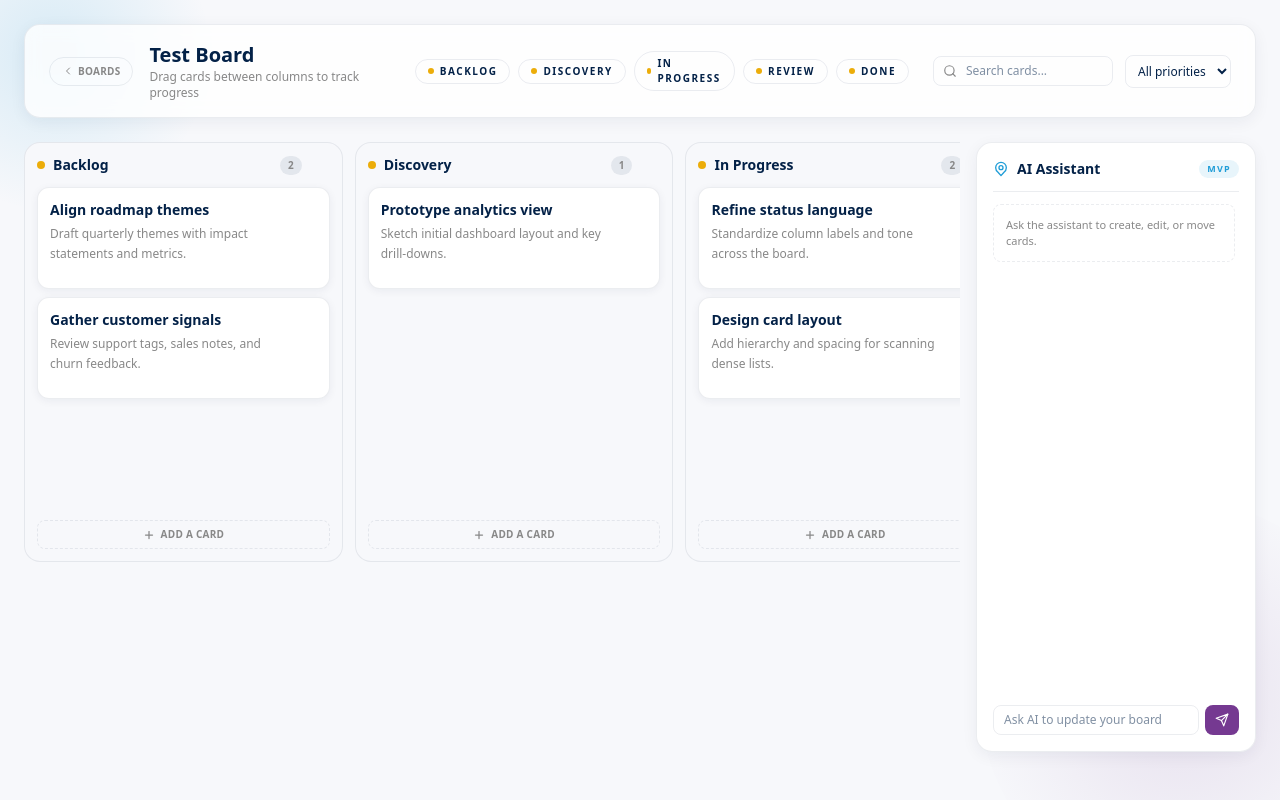
Test: KanbanBoard › filters cards by search query
Expected: the element with test id "column-col-backlog" is shown, top-left (24, 142), bottom-right (343, 562)
Expected: the heading "Align roadmap themes" is shown, top-left (50, 200), bottom-right (209, 219)
Note: Search for a specific card
Type "roadmap" into the field labelled "Search cards...". click: (1023, 71)
box: top-left (933, 56), bottom-right (1113, 86)
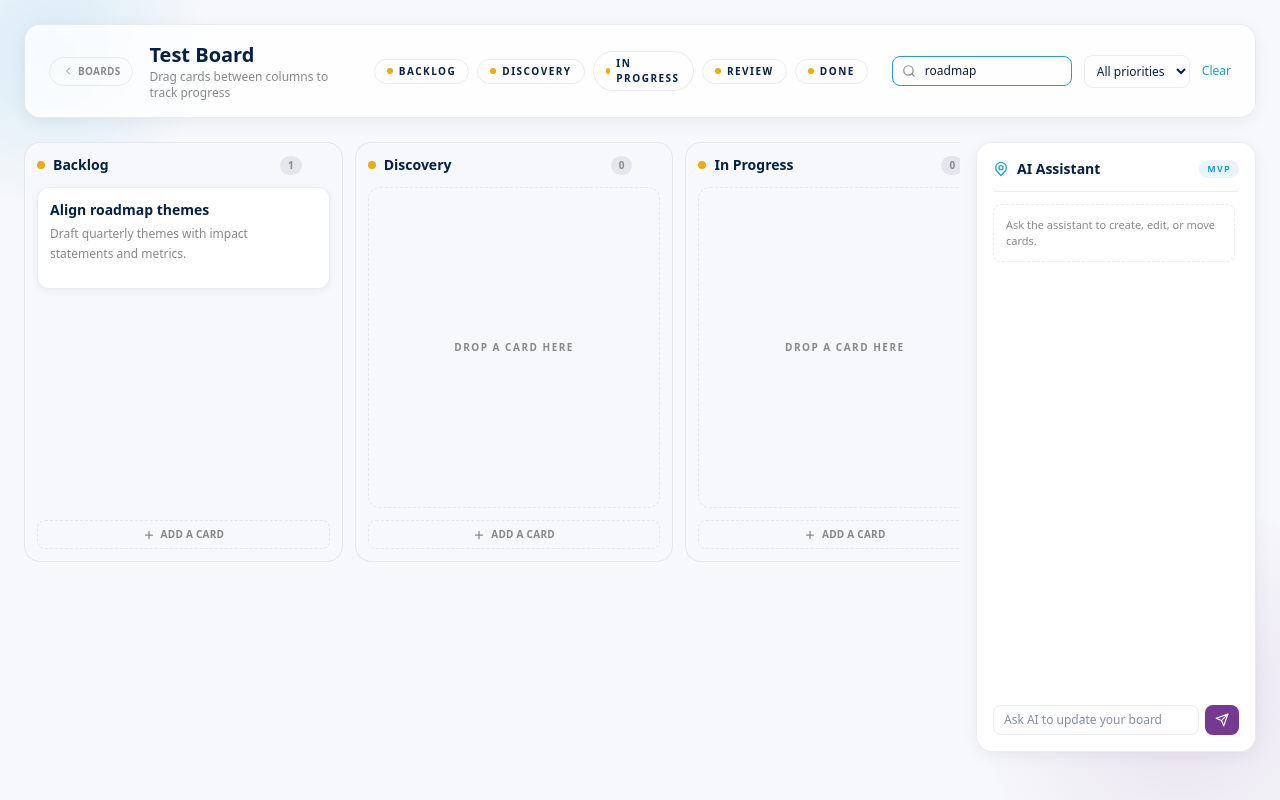
Expected: the heading "Align roadmap themes" is shown, top-left (50, 200), bottom-right (209, 219)
Result: the button "Gather customer signals" is gone
Note: Clear filter shows all cards again
Click the button "Clear". click: (1216, 71)
box: top-left (1202, 63), bottom-right (1231, 79)
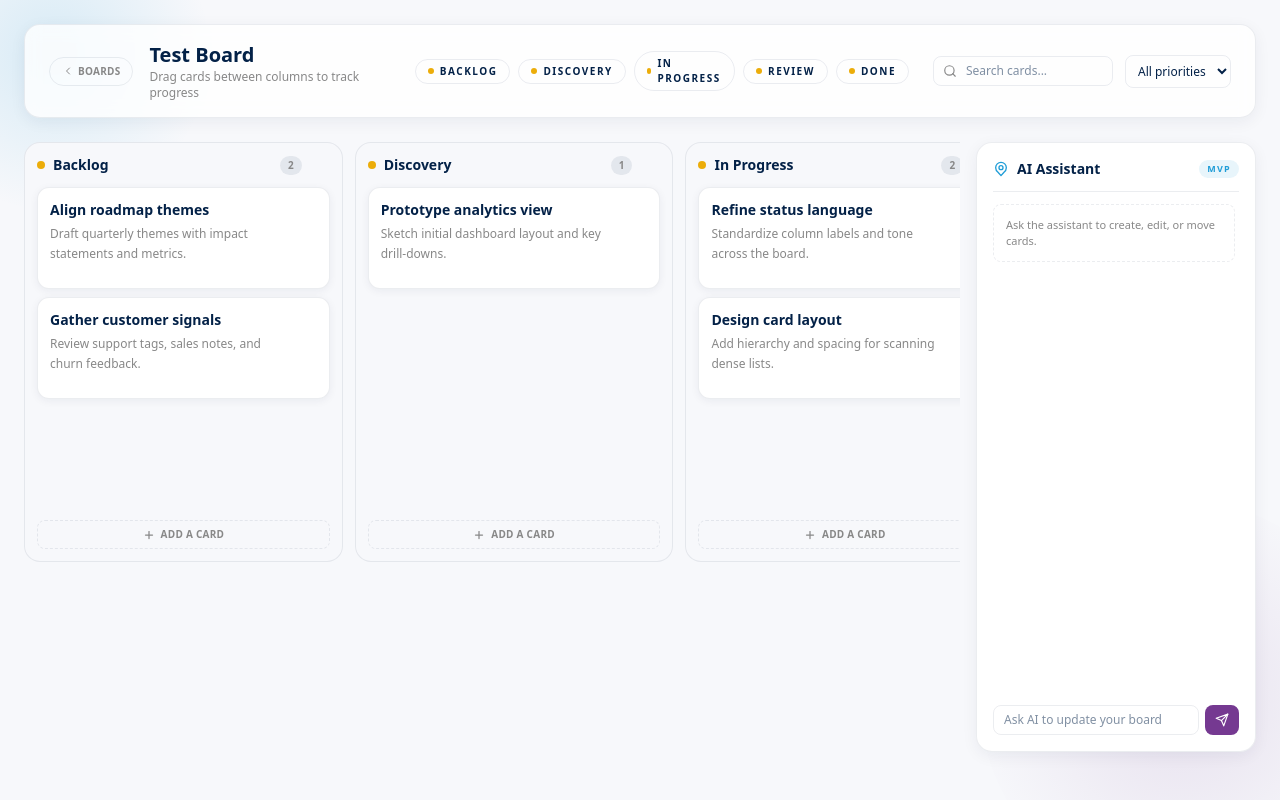
Result: the heading "Gather customer signals" is shown at top-left (50, 310), bottom-right (221, 329)
